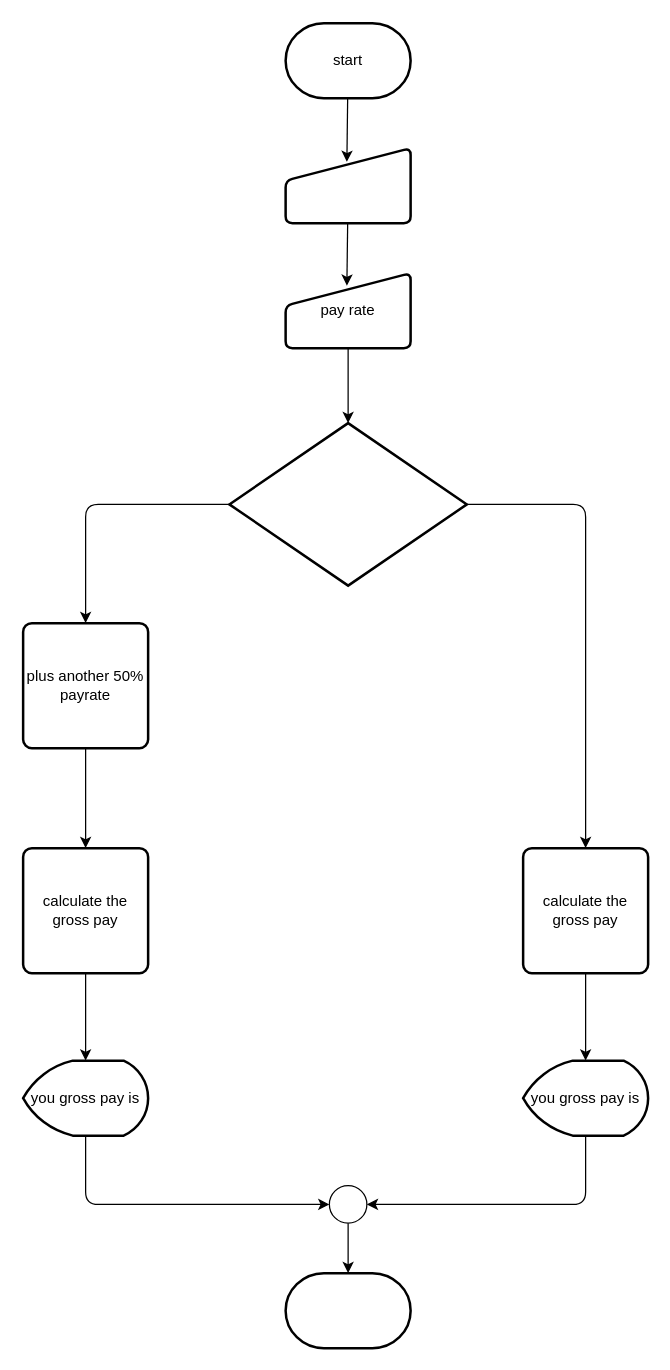
The diagram is 670 pixels wide and 1370 high, and some of its shapes have lost their labels. The centre of each missing label's shape, as x and y in pixels:
end: pixel 347 1310
hours worked: pixel 347 185
if hours mor tha 40: pixel 348 503
